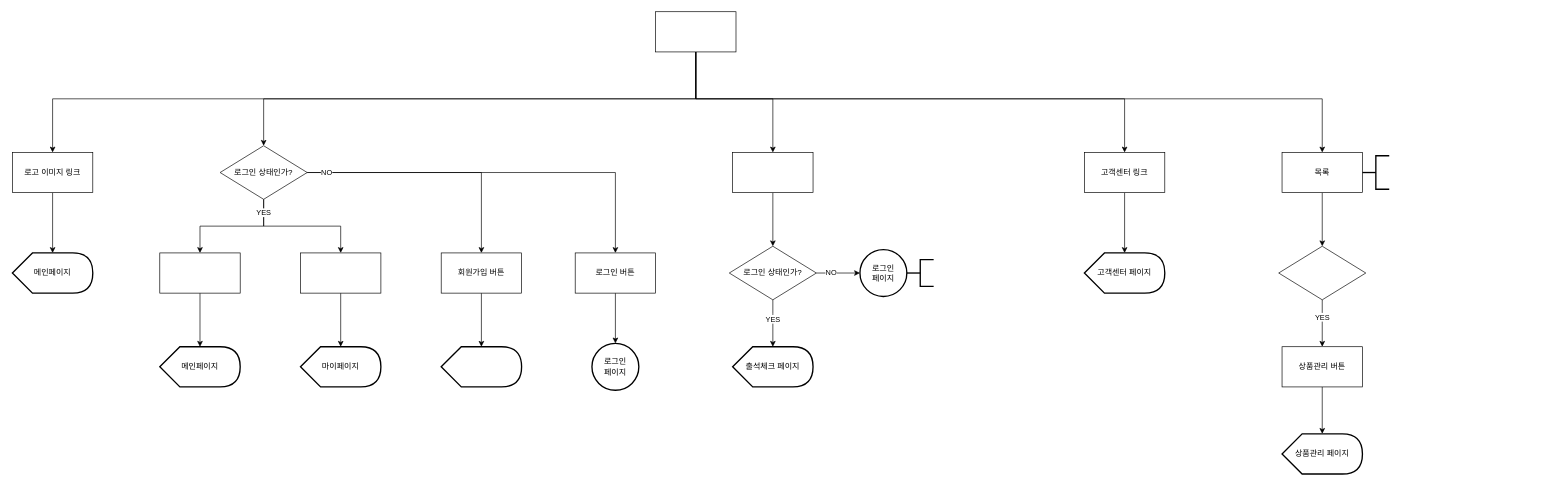
Some shapes in this 1556 by 486 pixel diagram are drawn without their labels. Here are the shapes that lost their labels. From the top down, the box of each, then its label:
(655, 11, 736, 52): 상단바
(732, 152, 813, 193): 출석체크 버튼
(1361, 155, 1390, 190): 정보게시판, 이슈게시판, 익명게시판, 포인트몰 버튼 클릭시 해당 페이지로 이동.
(159, 252, 240, 293): 로그아웃 버튼
(300, 252, 381, 293): 마이페이지 링크
(906, 259, 934, 287): '로그인이 필요합니다.'를 스크립트로 보여주고 페이지이동.
(1278, 246, 1366, 300): 관리자 계정으로 로그인되었는가?
(440, 346, 522, 387): 회원가입 페이지
